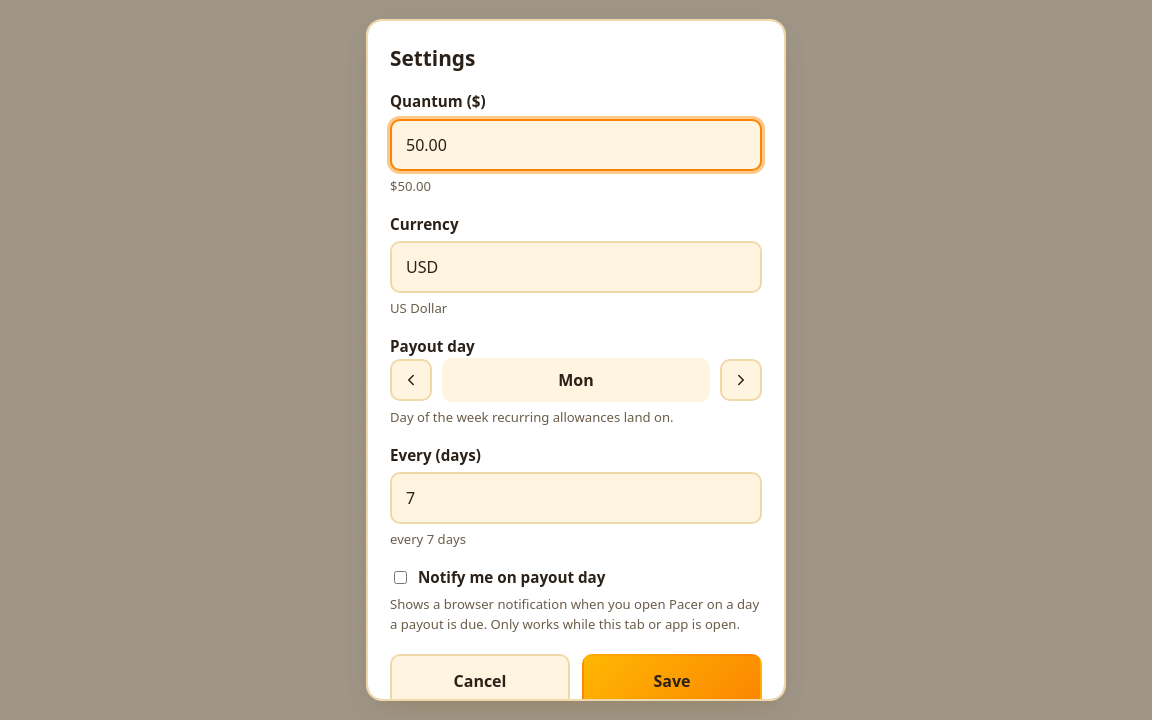
Test: SettingsDialog › shows live invalid feedback on the quantum field while typing, before Save
Replace the text in the field labelled "Quantum ($)" with "abc" at (576, 145), box [390,119,762,171]
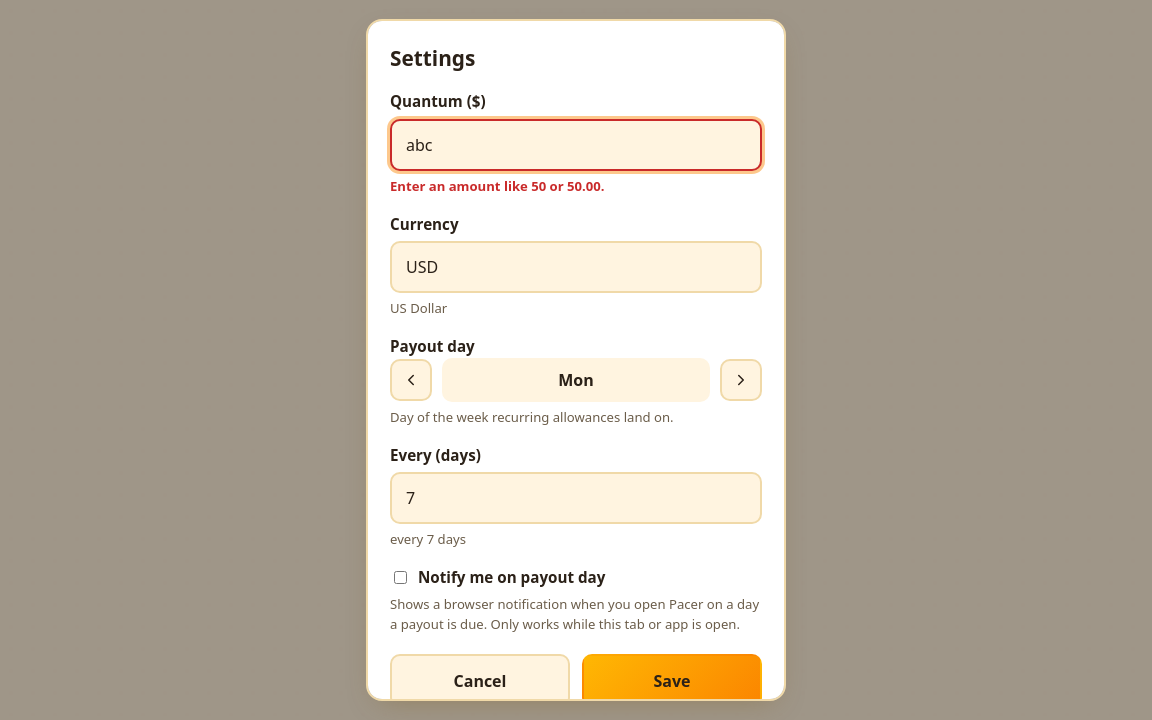
Check: the text "Enter an amount like 50 or 50.00." is shown, box [390,177,605,195]
